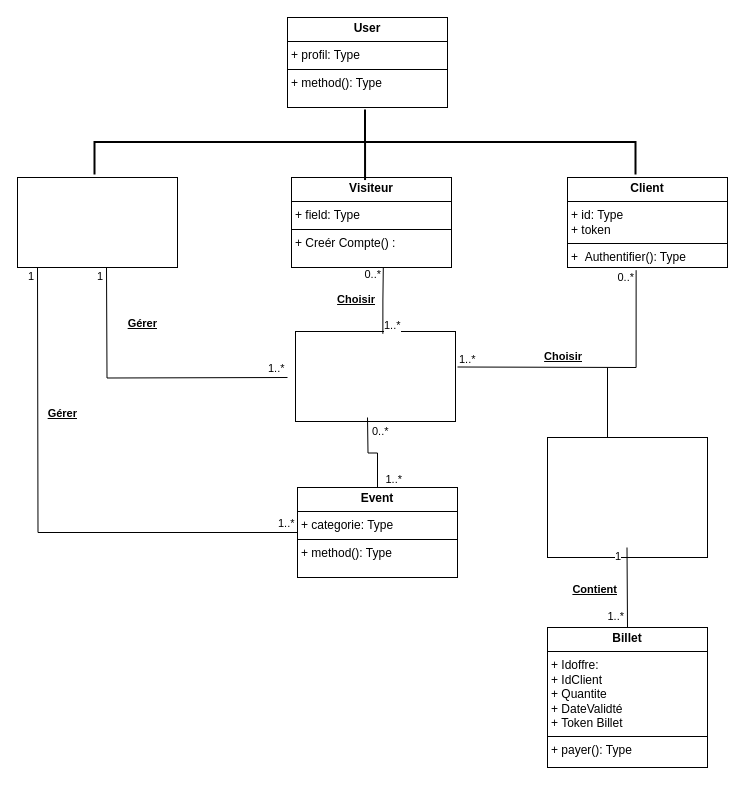
Image size: 745x785. Some labels were removed from this diagram. Each missing label, with the box of its shape:
Admin + field: Type + method(): Type: (16, 176, 178, 268)
Offre + categorie: String + tarif + method(): Type: (294, 330, 456, 422)
Panier + Idoffre: + IdClient + Quantite + Date validité + payer(): Type: (546, 436, 708, 558)
